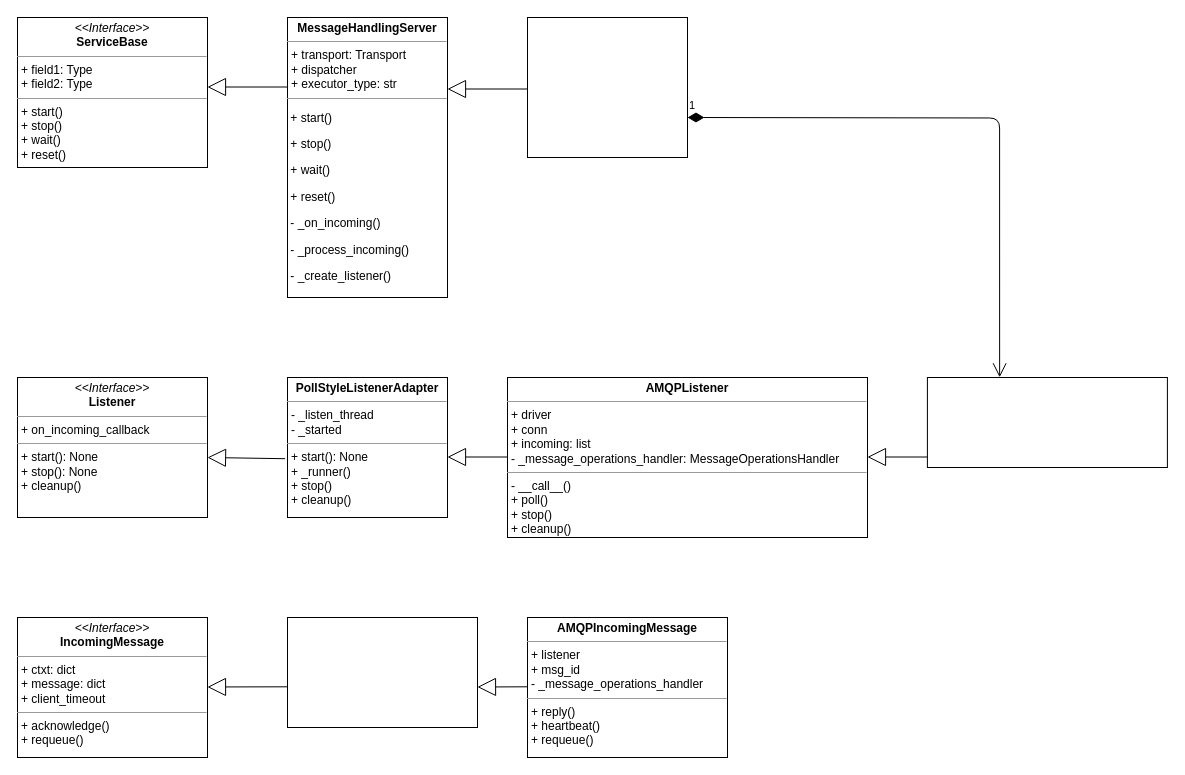
This 1185x775 diagram has some shape labels left out. Each missing label, with the centre of its shape:
"<<Interface>> RpcIncomingMessage + field1: Type + reply() + heartbeat()" belongs at (x=382, y=672).
"RpcAMQPListener + message_cls: AMQPIncomingMessage - __call__()" belongs at (x=1046, y=422).
"RPCServer - _target + method(): Type - _process_incoming() - _create_listener()" belongs at (x=607, y=87).
